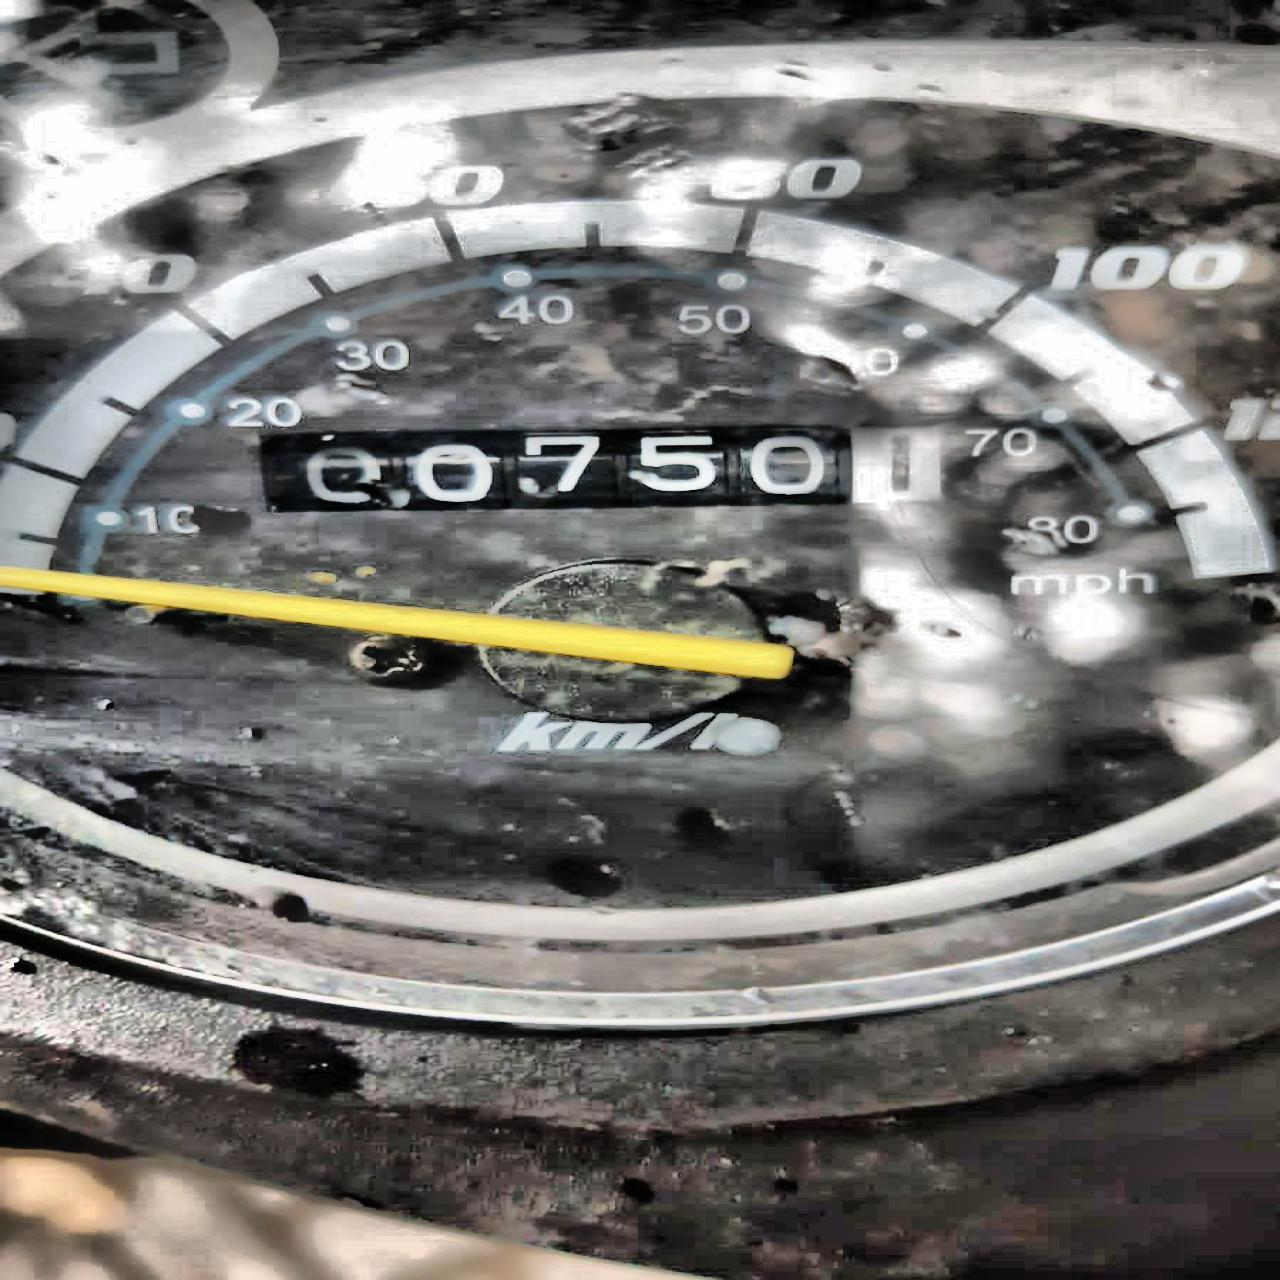0: (406, 440, 497, 504), (743, 431, 830, 497), (301, 442, 384, 506)
1: (873, 429, 921, 493)
5: (632, 431, 722, 495)
7: (515, 431, 608, 495)
odometer: (239, 417, 955, 515)
